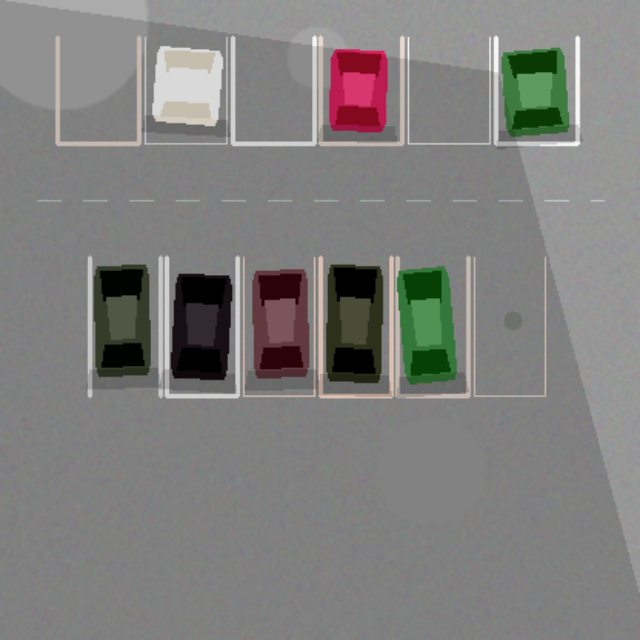space-empty: (474, 257, 545, 395), (232, 37, 314, 143), (57, 37, 138, 143), (408, 37, 489, 143)
space-occupied: (89, 257, 160, 395), (166, 257, 237, 395), (243, 257, 314, 395), (320, 257, 391, 395), (397, 257, 468, 395), (320, 37, 402, 143), (495, 37, 577, 143), (145, 37, 226, 143)
